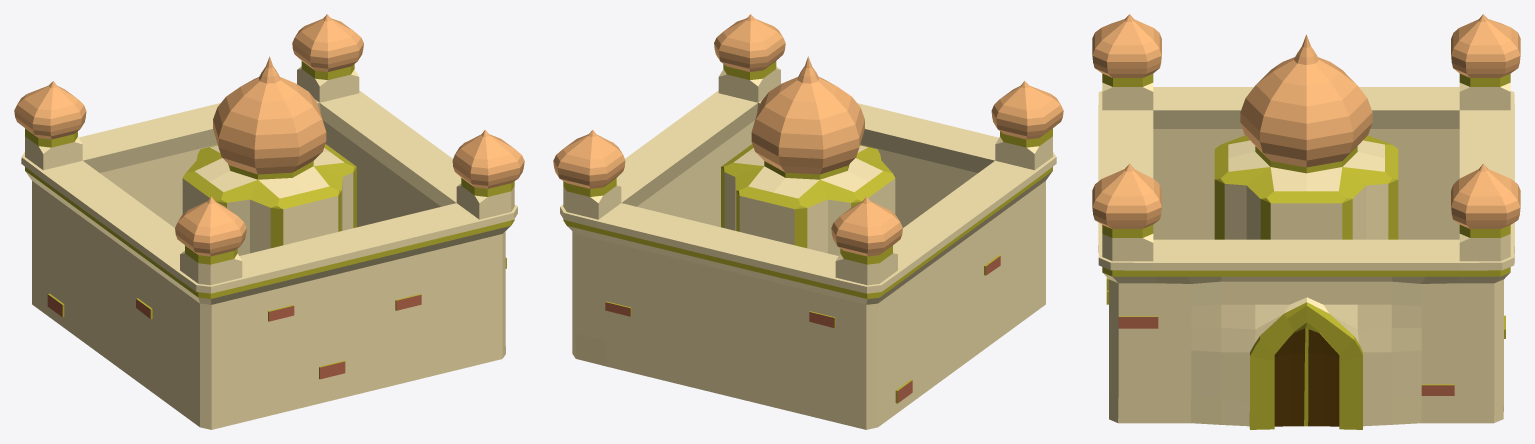
File: ArabFort.fbx
3 views of the same model, side by side, from view 1: azimuth 30°, elevation 25°; view 2: azimuth 150°, elevation 25°; view 3: azimuth 270°, elevation 25° (orthographic). The views are drawn at different scales.
Visible parts, largest first — view 1: ArabFort; view 2: ArabFort; view 3: ArabFort.
Part boxes in pixels (x1=…): ArabFort: x1=14, y1=14, x2=524, y2=429; ArabFort: x1=553, y1=14, x2=1063, y2=429; ArabFort: x1=1092, y1=14, x2=1520, y2=429.
Bounding box in the file's own units: 419 × 330 × 419.
